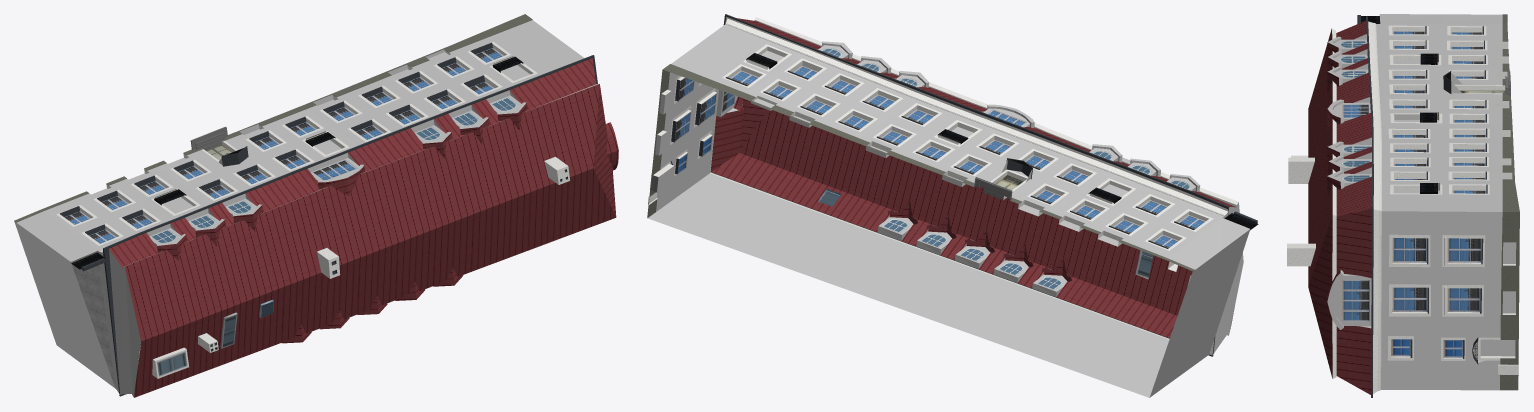
Rendered from Uus_17.obj.
The picture shows the model from 3 angles, left to right: view 1: azimuth 30°, elevation 25°; view 2: azimuth 150°, elevation 25°; view 3: azimuth 270°, elevation 25°; orthographic projection. The views are drawn at different scales.
Parts seen in each view (by area): view 1: Uus17; view 2: Uus17; view 3: Uus17.
Boxes of the visible parts, x1,y1,x2,y2 form: Uus17: (14,14,618,397); Uus17: (647,14,1258,397); Uus17: (1287,14,1519,397).
Size of the model in its own units: 42.19 by 16.71 by 14.06.
